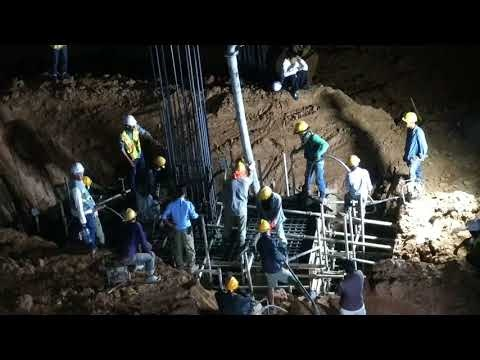none: (172, 183, 188, 201), (341, 259, 357, 276)
white: (66, 159, 86, 182), (120, 112, 138, 133)
yellow: (292, 119, 311, 139), (120, 205, 139, 225), (148, 153, 167, 173), (222, 274, 239, 294), (402, 110, 418, 129), (257, 186, 273, 205), (257, 219, 272, 237), (346, 153, 361, 170)
